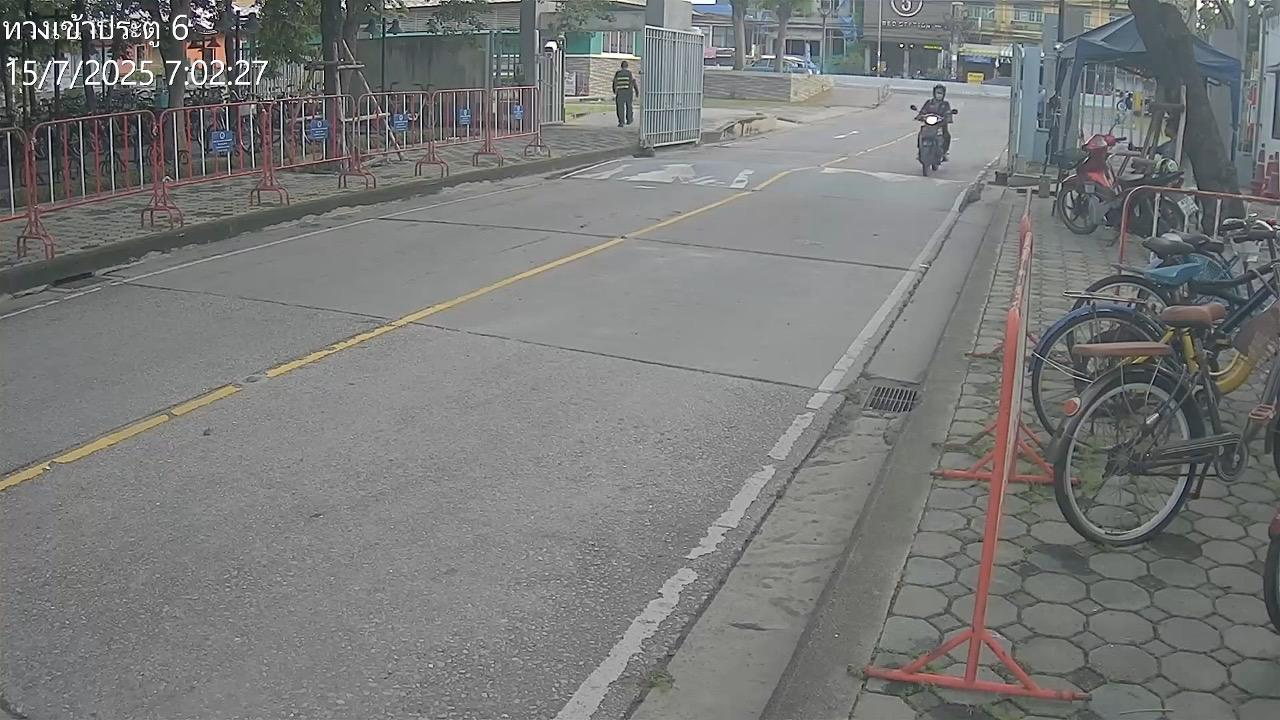With-Helmet: (933, 84, 946, 100)
